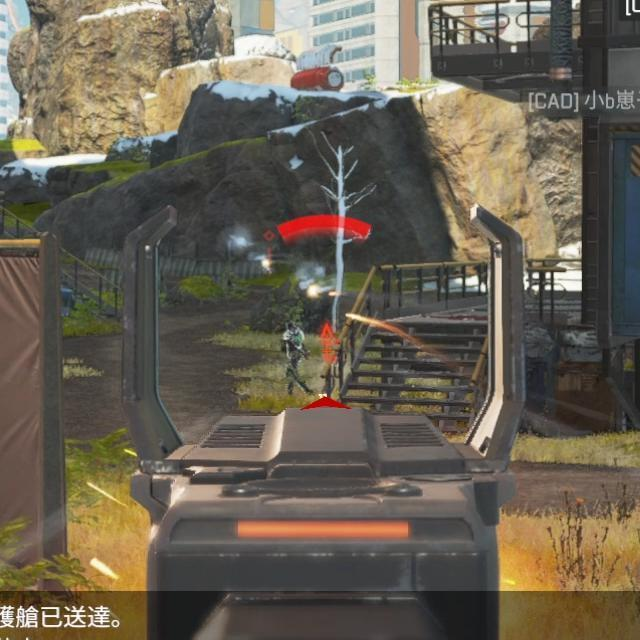avatar: (280, 319, 312, 399)
